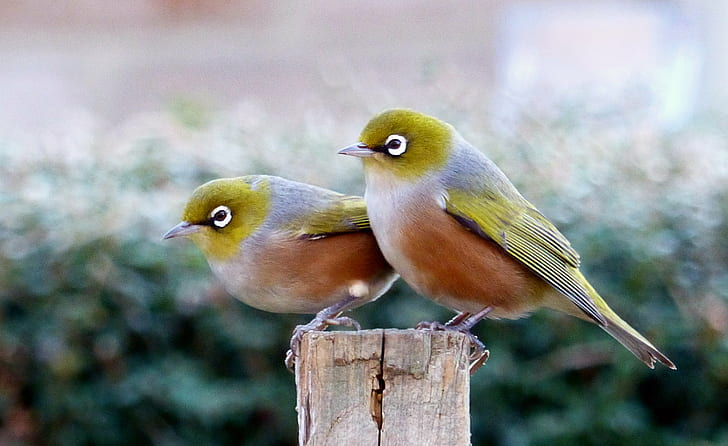bird: (323, 86, 693, 422), (152, 149, 423, 382)
